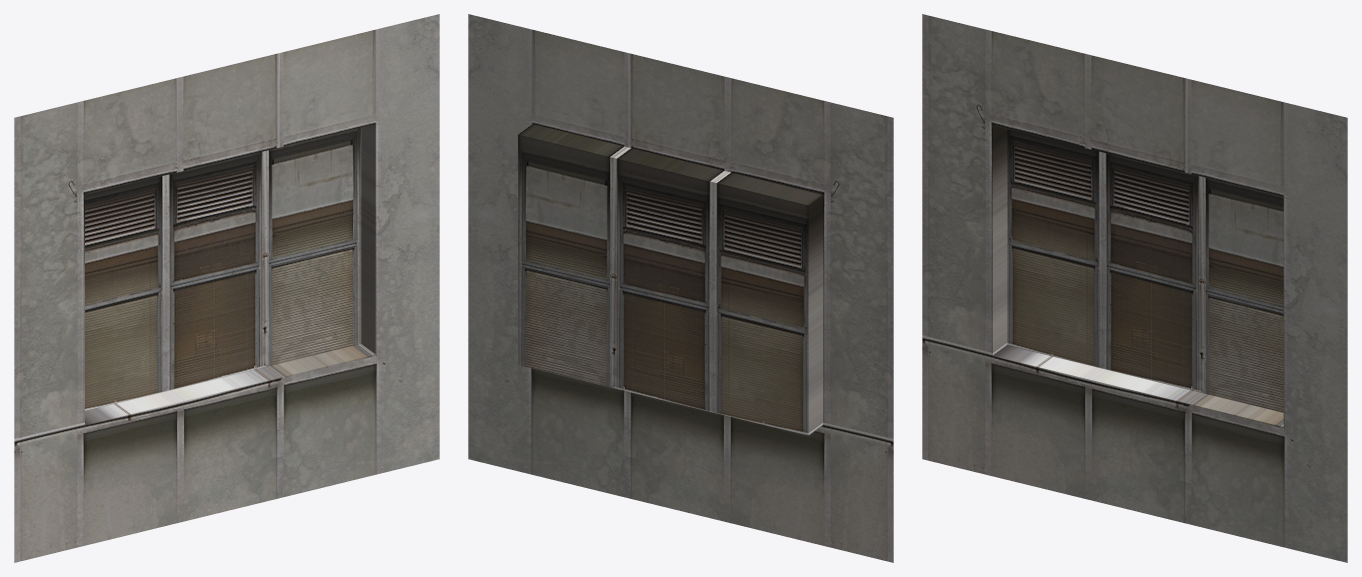
File: CT_Building_Piece_Single_02.fbx
The picture shows the model from 3 angles, left to right: view 1: azimuth 30°, elevation 25°; view 2: azimuth 150°, elevation 25°; view 3: azimuth 330°, elevation 25°; orthographic projection.
Parts seen in each view (by area): view 1: CT_Building_Piece_Single_02; view 2: CT_Building_Piece_Single_02; view 3: CT_Building_Piece_Single_02.
Part boxes in pixels (x1=…): CT_Building_Piece_Single_02: x1=14, y1=14, x2=439, y2=562; CT_Building_Piece_Single_02: x1=468, y1=14, x2=893, y2=562; CT_Building_Piece_Single_02: x1=922, y1=14, x2=1347, y2=562.
Bounding box in the file's own units: 256 × 256 × 15.
